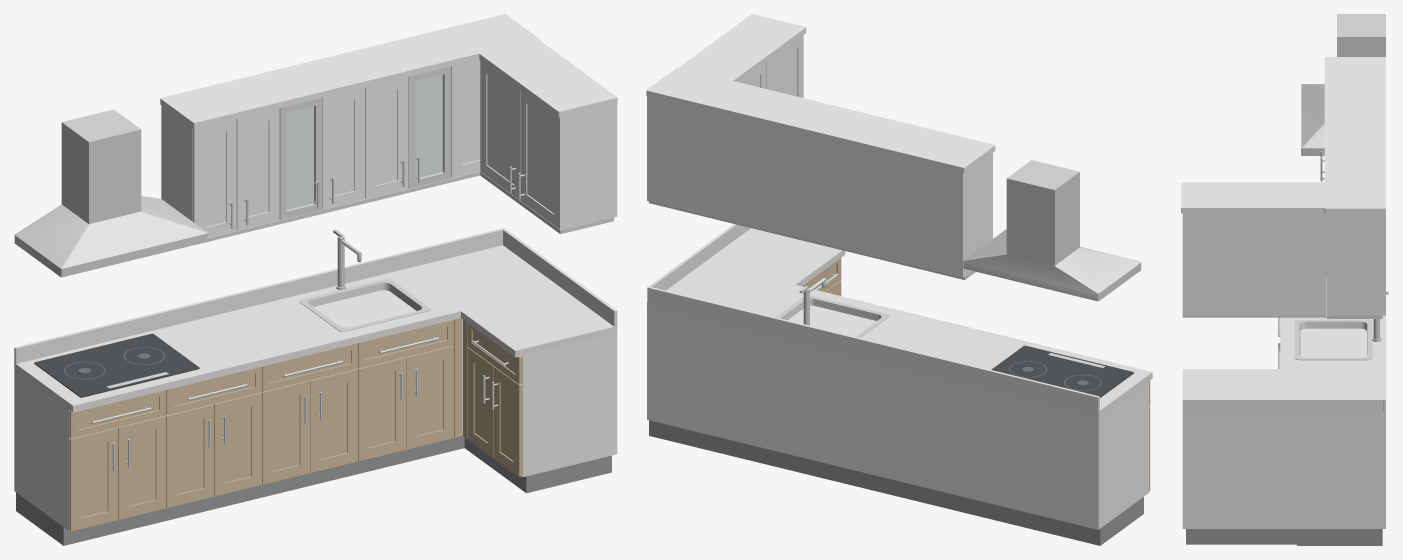
The picture shows the model from 3 angles, left to right: view 1: azimuth 30°, elevation 25°; view 2: azimuth 150°, elevation 25°; view 3: azimuth 270°, elevation 25°; orthographic projection. The views are drawn at different scales.
Parts seen in each view (by area): view 1: Tủ bếp chữ L Dài cạnh chính=3000; Dài cạnh phụ=1200; Sâu tủ ; view 2: Tủ bếp chữ L Dài cạnh chính=3000; Dài cạnh phụ=1200; Sâu tủ ; view 3: Tủ bếp chữ L Dài cạnh chính=3000; Dài cạnh phụ=1200; Sâu tủ .
Part boxes in pixels (box(x1,y1,x2,y2)): Tủ bếp chữ L Dài cạnh chính=3000; Dài cạnh phụ=1200; Sâu tủ : box(14, 14, 617, 545); Tủ bếp chữ L Dài cạnh chính=3000; Dài cạnh phụ=1200; Sâu tủ : box(646, 14, 1152, 545); Tủ bếp chữ L Dài cạnh chính=3000; Dài cạnh phụ=1200; Sâu tủ : box(1181, 14, 1388, 545).
Size of the model in its own units: 3.01 by 2.2 by 1.22.
